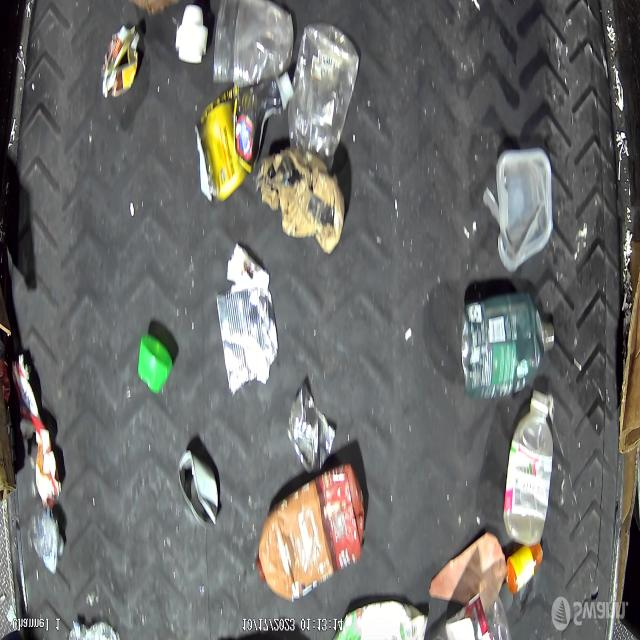can: (217, 289, 278, 395), (285, 382, 334, 476), (178, 446, 220, 526)
plastic_bottle: (504, 390, 554, 547), (27, 508, 66, 573)
